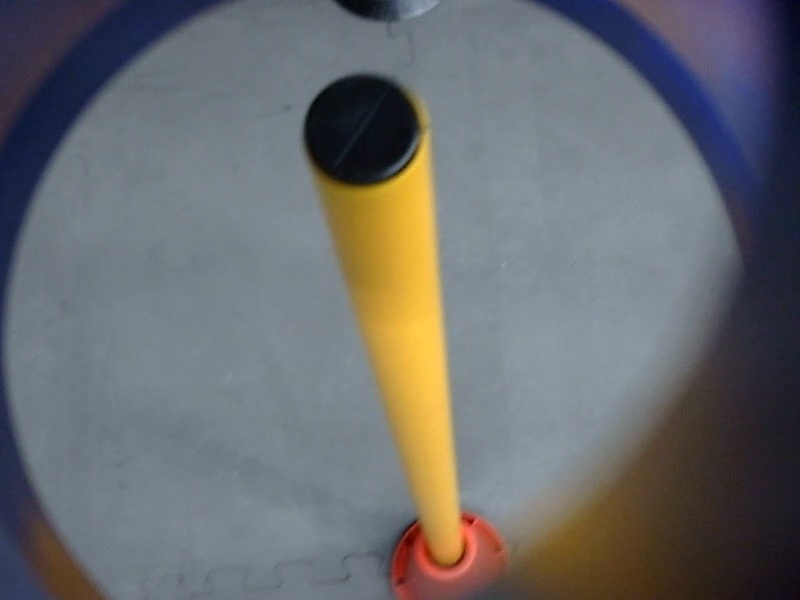tip: (291, 59, 434, 203)
